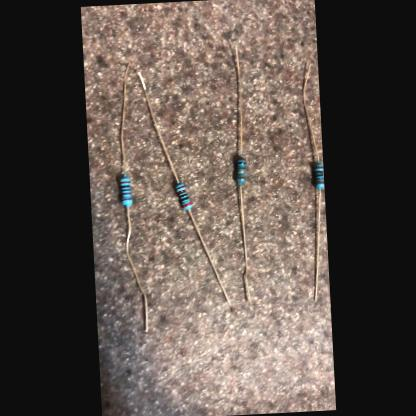resistor: (176, 182, 193, 209), (119, 176, 132, 205), (234, 156, 246, 183), (314, 162, 324, 188)
wire: (188, 207, 234, 313), (138, 69, 180, 184), (124, 204, 148, 332), (116, 62, 135, 176), (308, 188, 326, 300), (300, 63, 320, 162), (239, 184, 251, 304), (235, 44, 244, 156)
